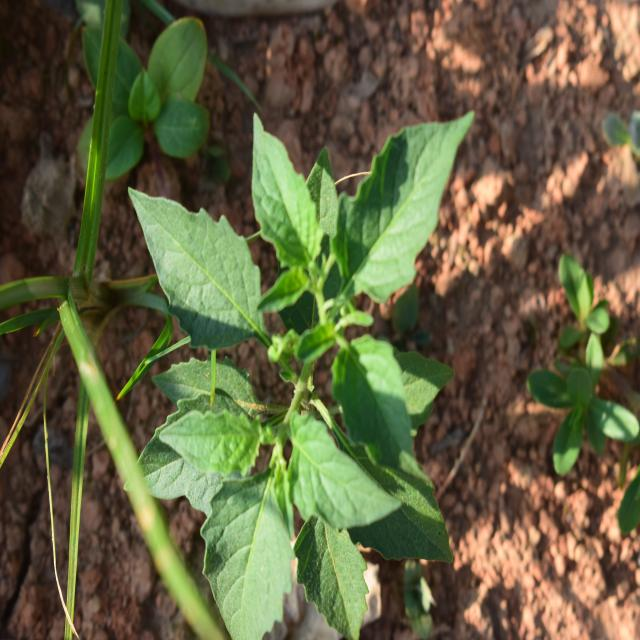Black_nightshade: (161, 95, 461, 601)
